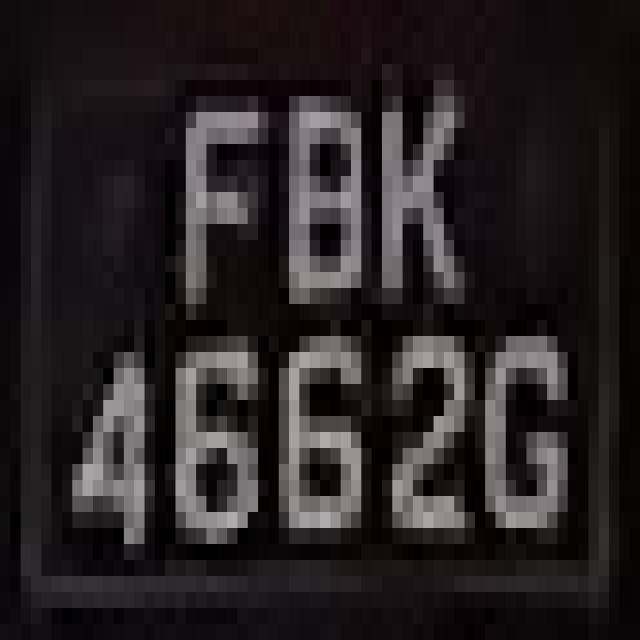2: (382, 288, 485, 608)
4: (41, 320, 155, 576)
6: (248, 288, 361, 608), (144, 320, 268, 576)
B: (248, 64, 361, 352)
F: (144, 64, 268, 352)
G: (465, 224, 578, 592)
K: (351, 32, 475, 352)
